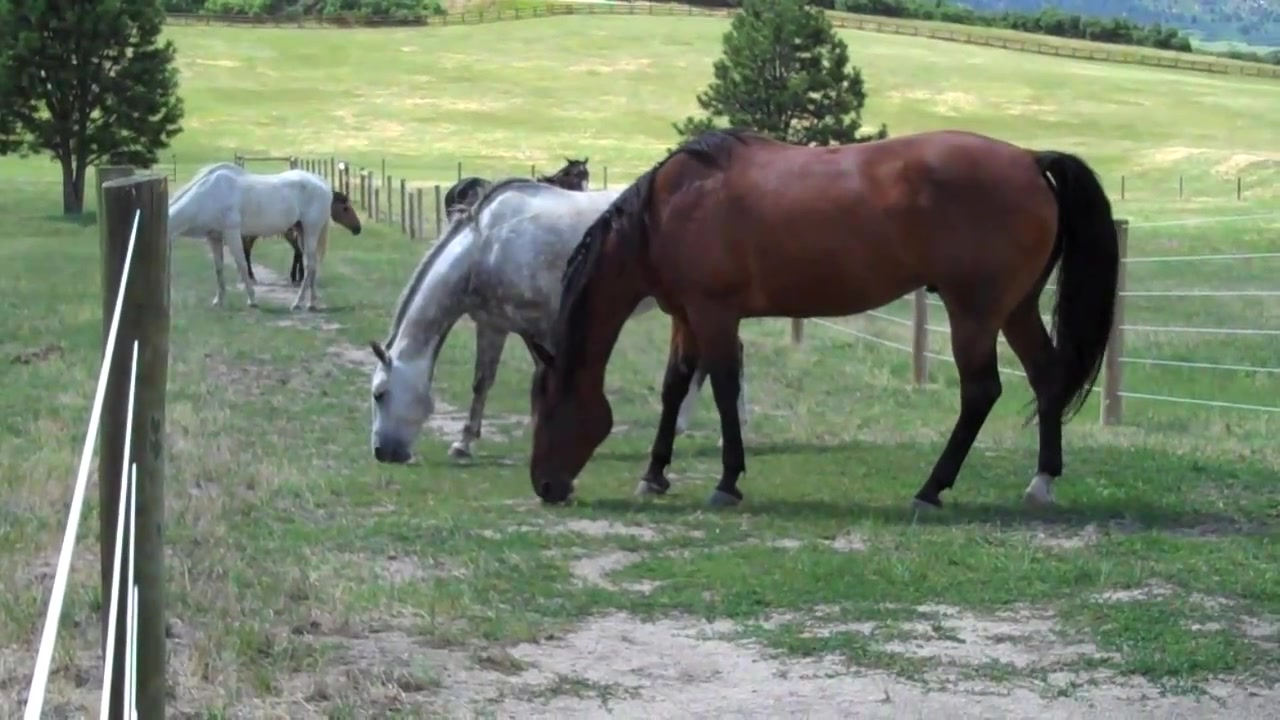horse: (525, 128, 1120, 523), (366, 178, 753, 469), (164, 166, 337, 314), (244, 188, 373, 285), (443, 157, 596, 229)
